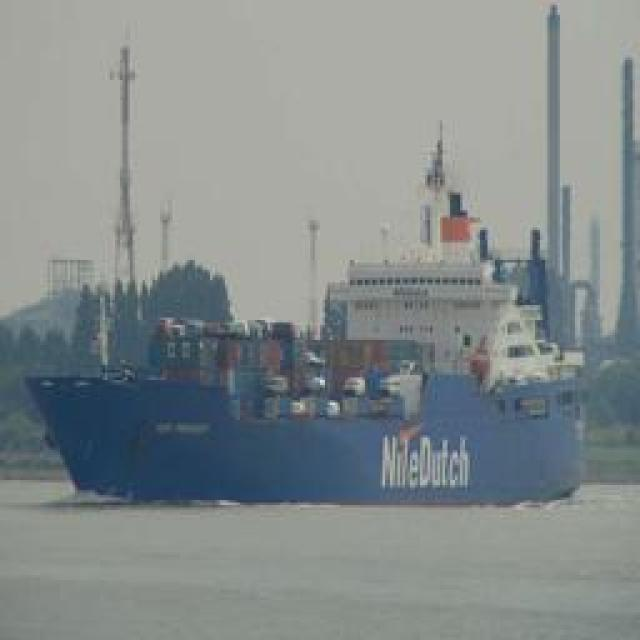CIV_Ship: (14, 222, 622, 506)
